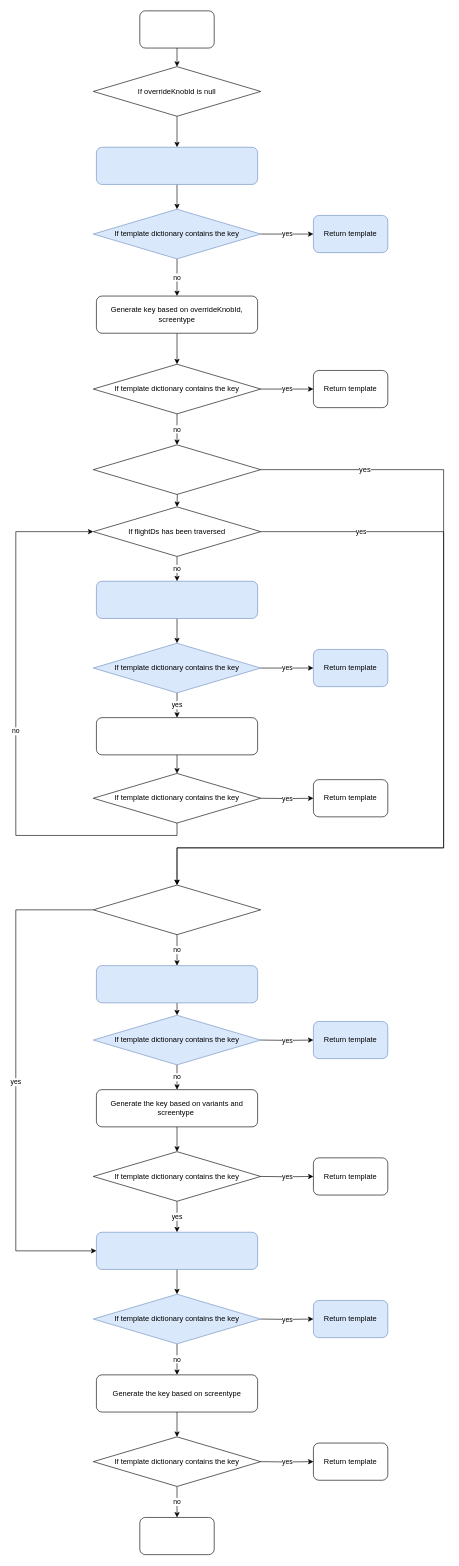
The diagram is 459 pixels wide and 1566 high, and some of its shapes have lost their labels. The centre of each missing label's shape, as x and y in pixels:
Generate key based on overrideKnobId, screentype and market: pixel 177 165
Generate the key based on flightID and screentype: pixel 177 736
Generate the key based on flightID screentype and market: pixel 177 599
Generate the key based on screentype and market: pixel 177 1250
Generate the key based on variants screentype and market: pixel 177 984
If flightids is null: pixel 177 469
If variants is null: pixel 177 909
Return null: pixel 176 1536
Start: pixel 176 29
